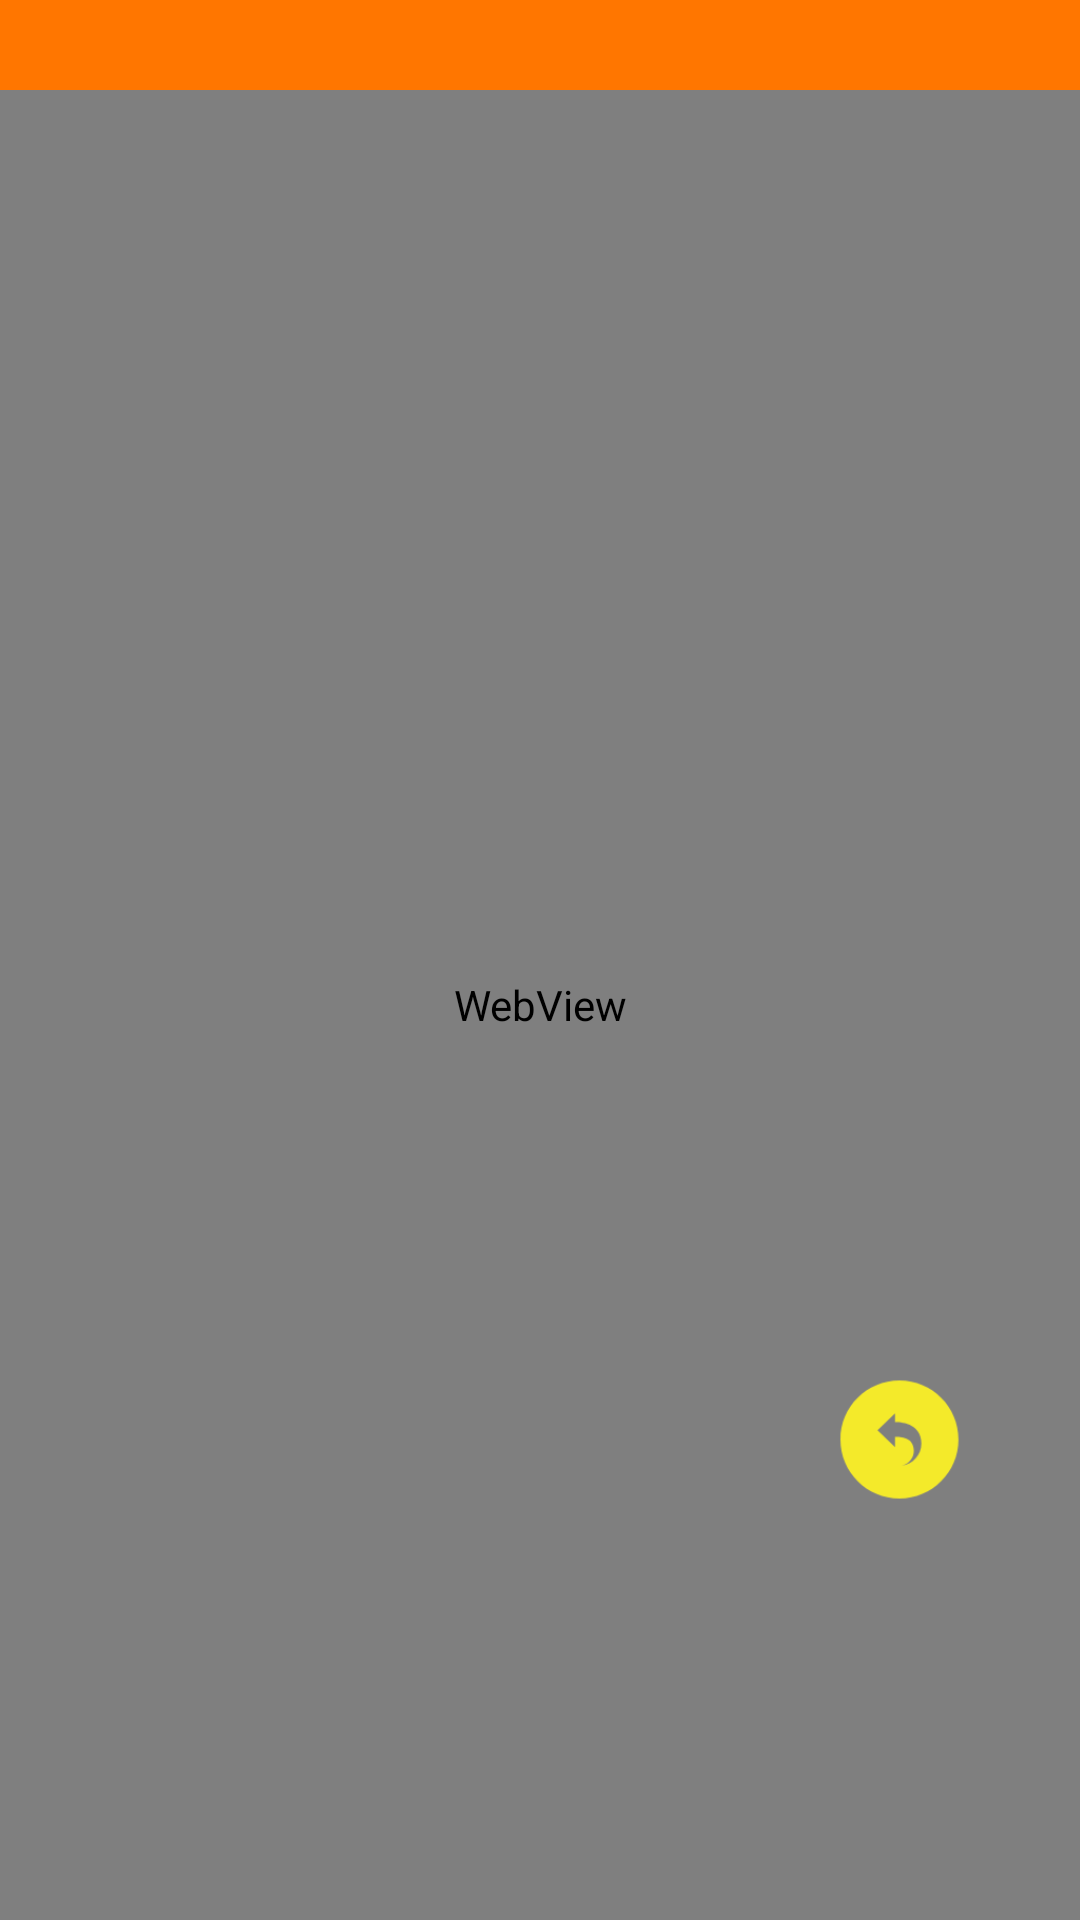

Icon bounding boxes for this 1080 x 1920 phone screenshot, format (x1=x1, y1=y1, x2=x2, y2=y2):
fragment back: (x1=840, y1=1380, x2=959, y2=1499)
